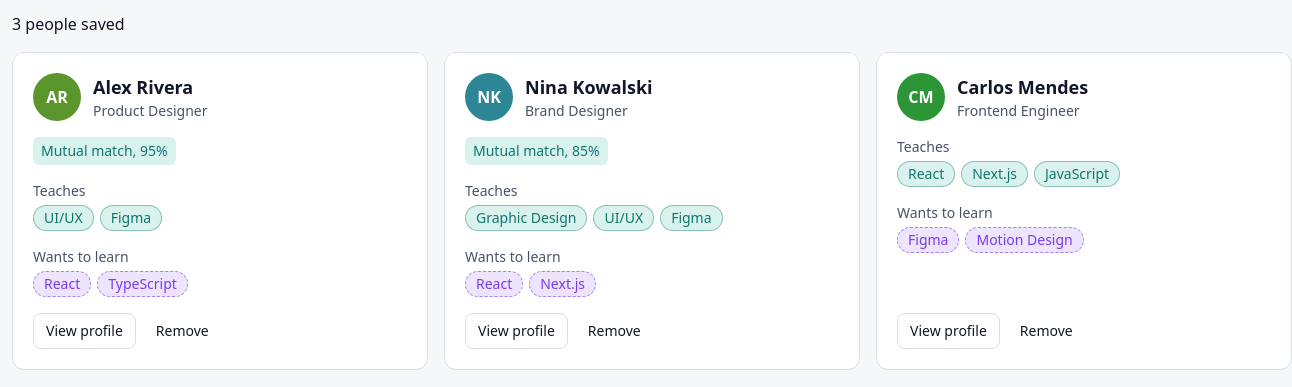
Test case: Favorites: removing › updates the count as people are removed
Expected: the element that starts with "Alex Rivera" is shown, [12,52,428,370]
Click the button with aria-label "Remove Alex Rivera from favorites" at coordinates (182, 331), box [144,313,221,349]
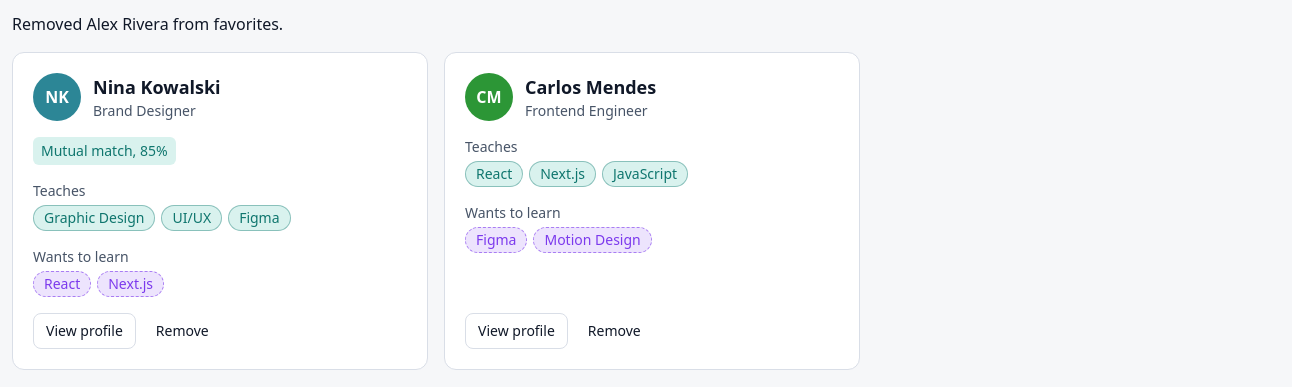
Click the button with aria-label "Remove Nina Kowalski from favorites" at coordinates (182, 331), box [144,313,221,349]
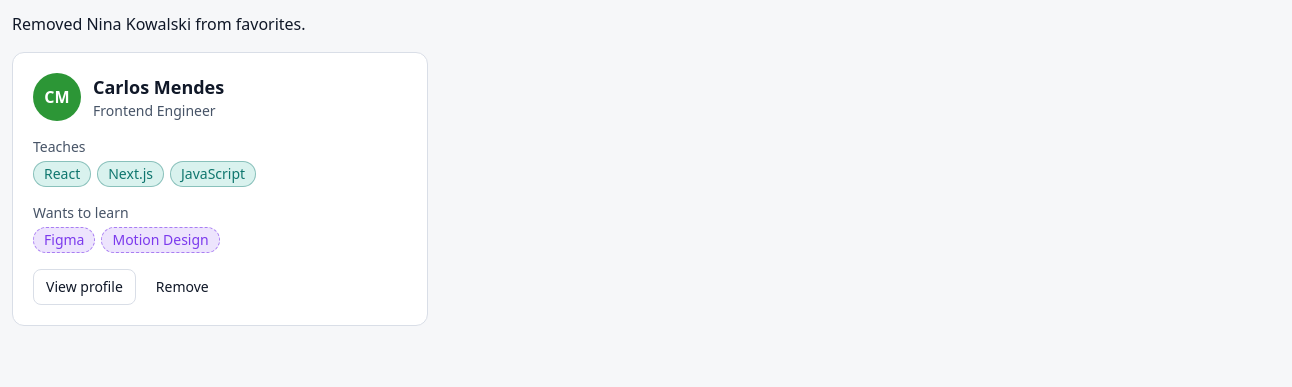
Now the text "Removed Nina Kowalski from favorites." is shown, box [12,13,306,35]
